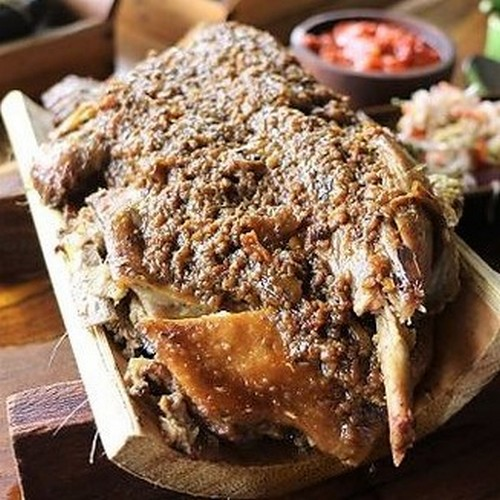bebek timbungan: (57, 22, 468, 470)
